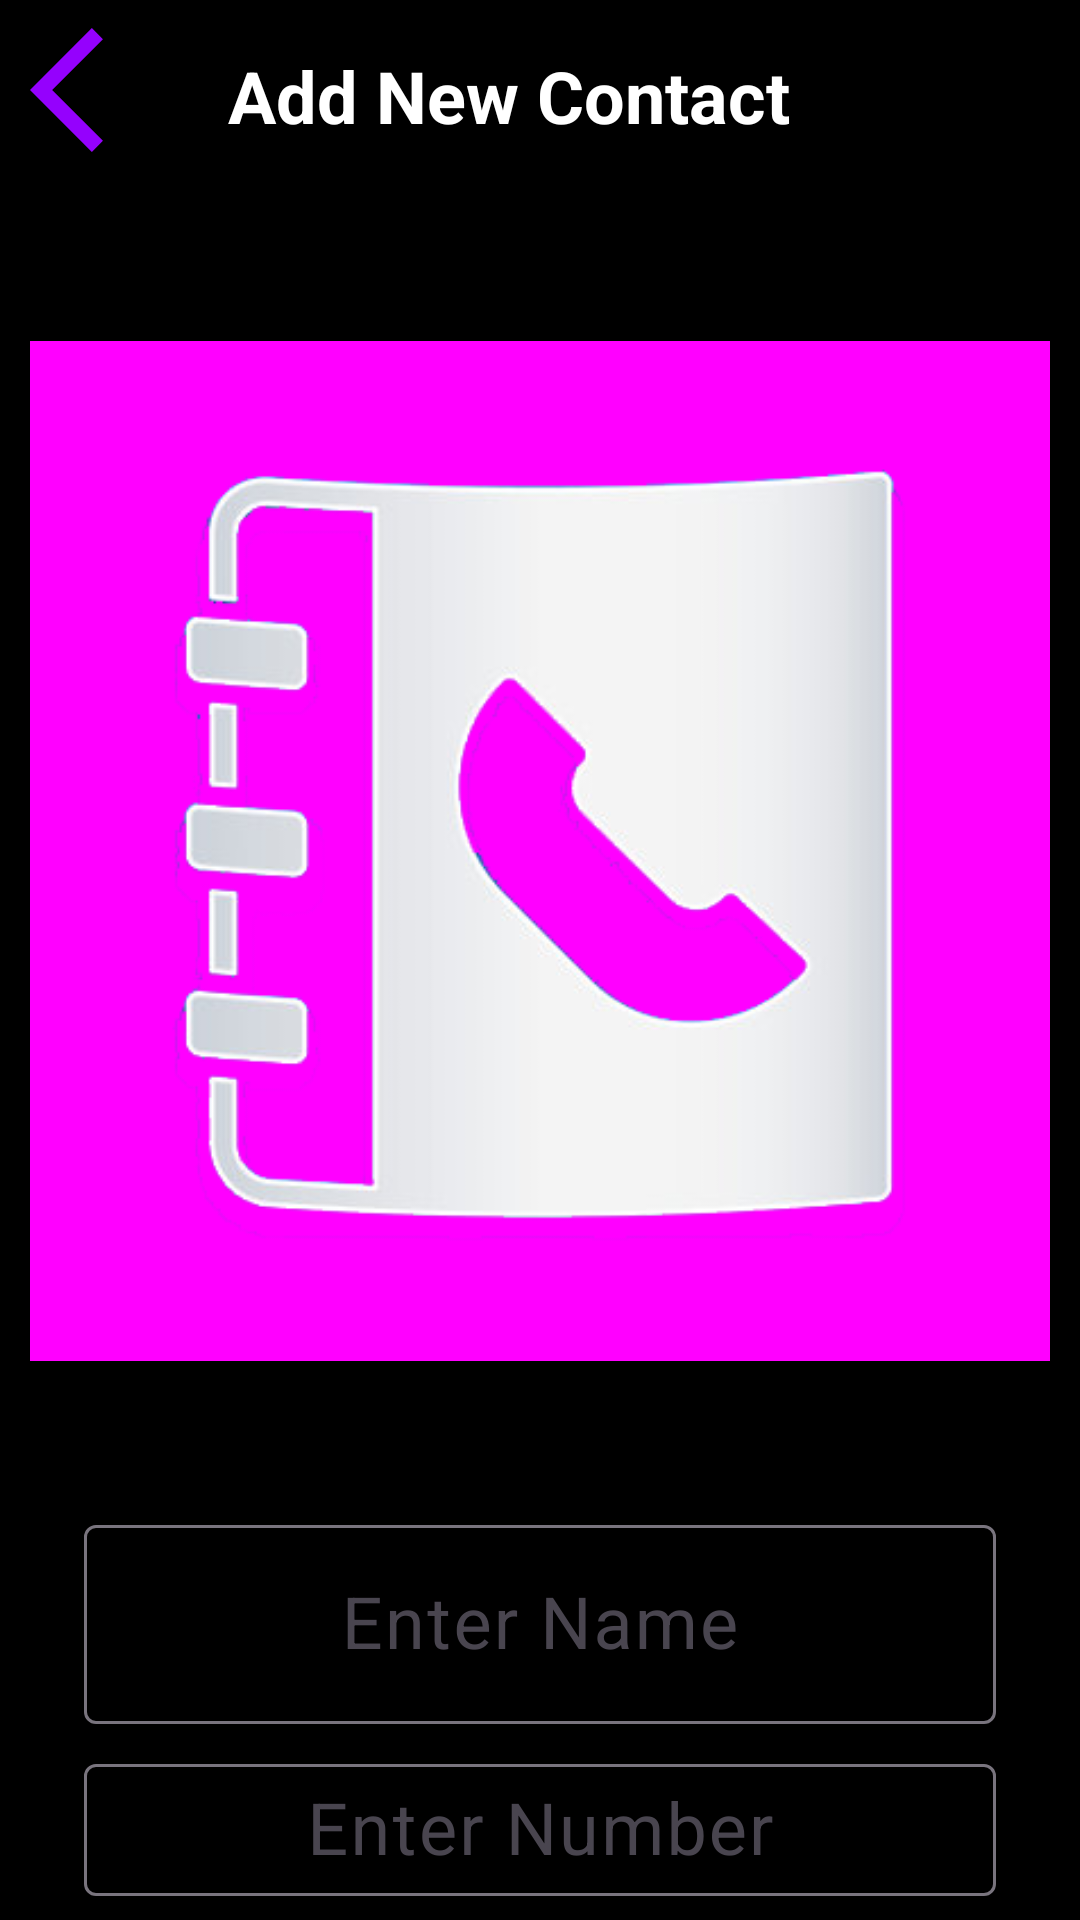

Locate icon controls on the screen. Image size 1080×1920, boxes as (x1, y1, x2, y2).
back: (30, 28, 103, 152)
